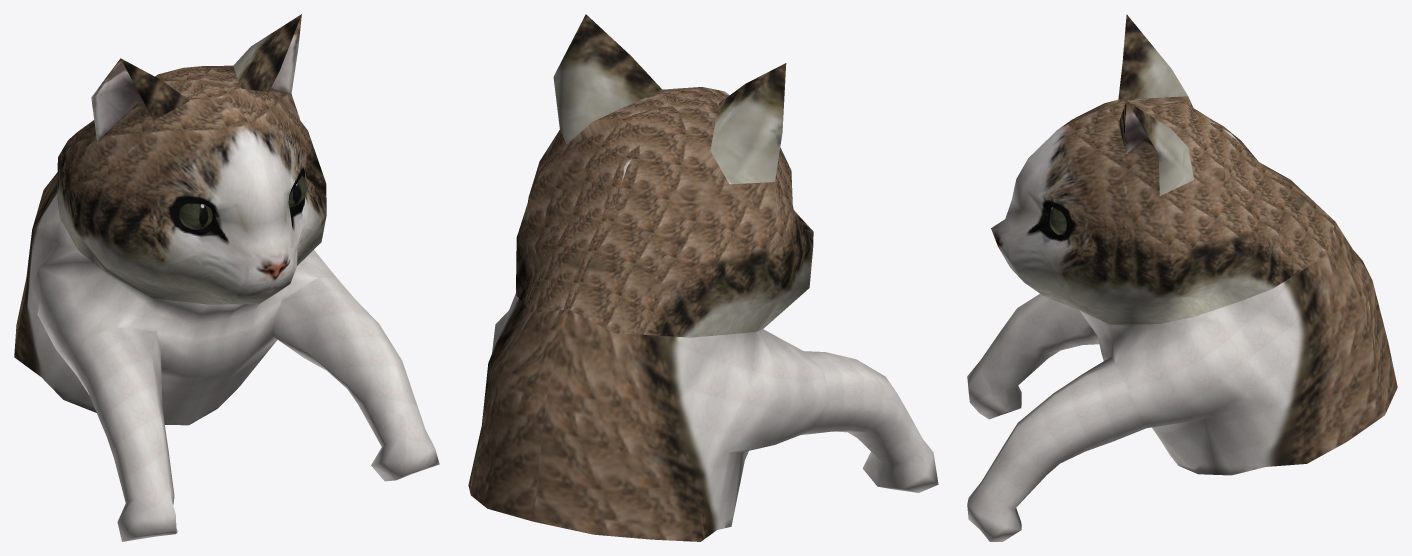
The model's file is neko_0111.fbx.
The picture shows the model from 3 angles, left to right: view 1: azimuth 30°, elevation 25°; view 2: azimuth 150°, elevation 25°; view 3: azimuth 270°, elevation 25°; orthographic projection. The views are drawn at different scales.
Visible parts, largest first — view 1: cat5, eye_L; view 2: cat5; view 3: cat5.
Part boxes in pixels (x1=…): cat5: x1=14, y1=14, x2=439, y2=541; eye_L: x1=179, y1=203, x2=212, y2=229; cat5: x1=468, y1=14, x2=938, y2=541; cat5: x1=967, y1=14, x2=1397, y2=541.
Bounding box in the file's own units: 15.7 × 19.97 × 18.77.
